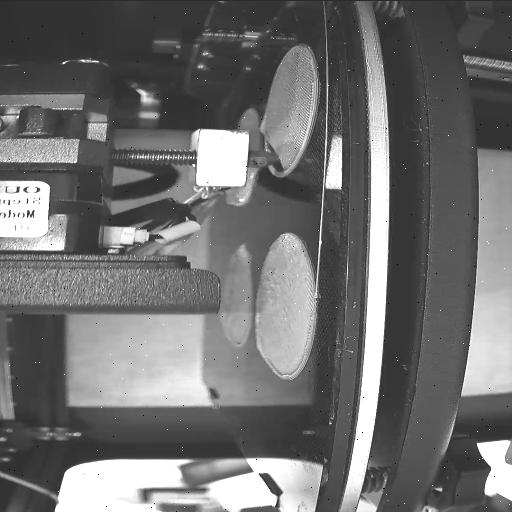over_extrusion: (260, 356, 308, 381), (258, 110, 270, 134)
